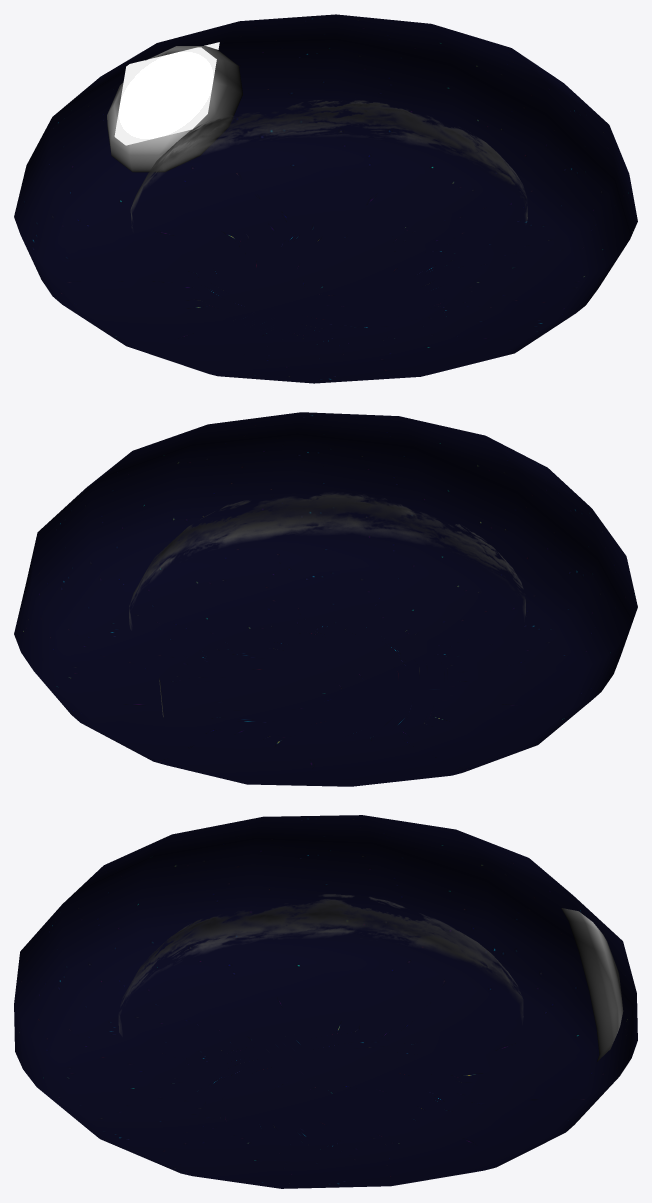
File: NPSky.gltf
The picture shows the model from 3 angles, top to bottom: view 1: azimuth 30°, elevation 25°; view 2: azimuth 150°, elevation 25°; view 3: azimuth 270°, elevation 25°; orthographic projection.
Visible parts, largest first — view 1: Sky, Clouds, Moon, Bloom; view 2: Sky, Clouds; view 3: Sky, Clouds, Bloom.
Boxes of the visible parts, x1,y1,x2,y2 form: Sky: (14,14,637,383); Clouds: (130,100,527,228); Moon: (114,42,219,145); Bloom: (107,46,242,172); Sky: (14,412,637,786); Clouds: (129,493,525,629); Sky: (14,815,637,1188); Clouds: (118,894,523,1034); Bloom: (561,908,623,1061).
Size of the model in its own units: 7199 by 2636 by 7277.
Materials: 5 (4 with a texture image).
